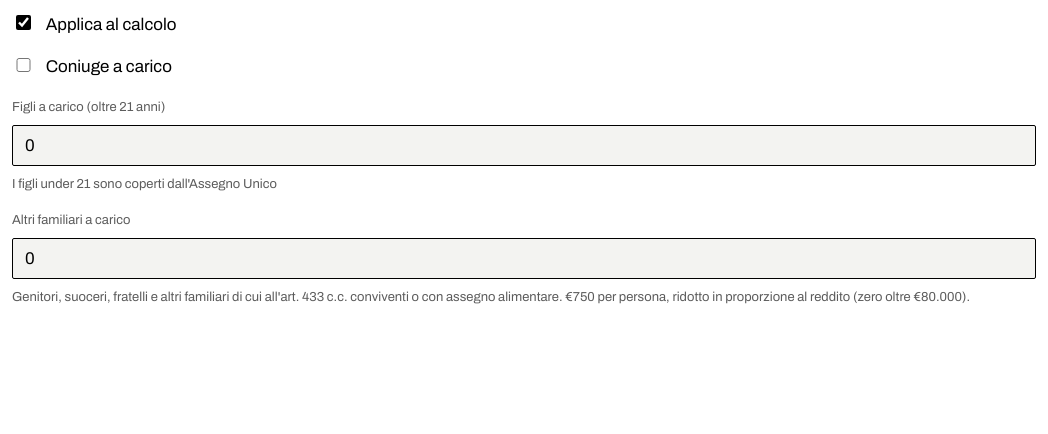
Test: DependentsInput › reveals the spouse income field only once the spouse is marked dependent
The width and height of the screenshot is (1048, 434).
Expected: the field labelled "Reddito annuo del coniuge" is not shown
Click the checkbox labelled "Coniuge a carico": point(23, 65) top-left (16, 58), bottom-right (31, 72)
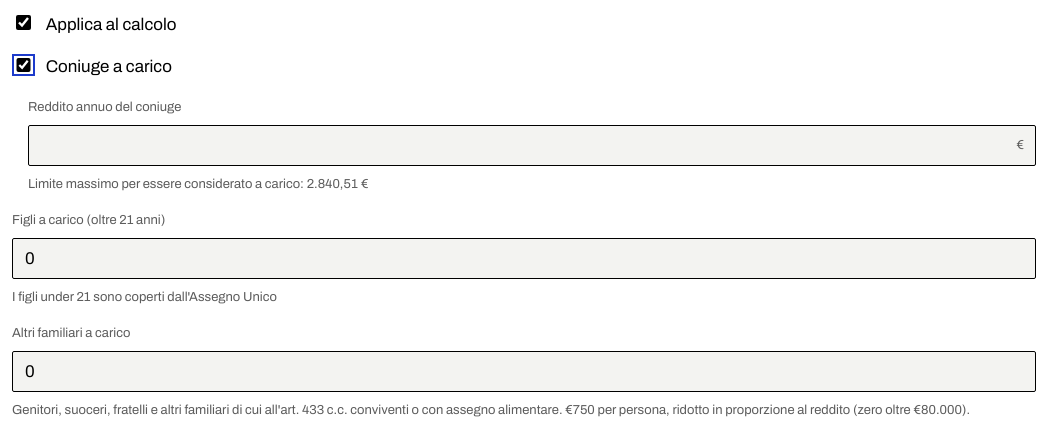
Expected: the field labelled "Reddito annuo del coniuge" is shown, top-left (28, 125), bottom-right (1036, 166)
